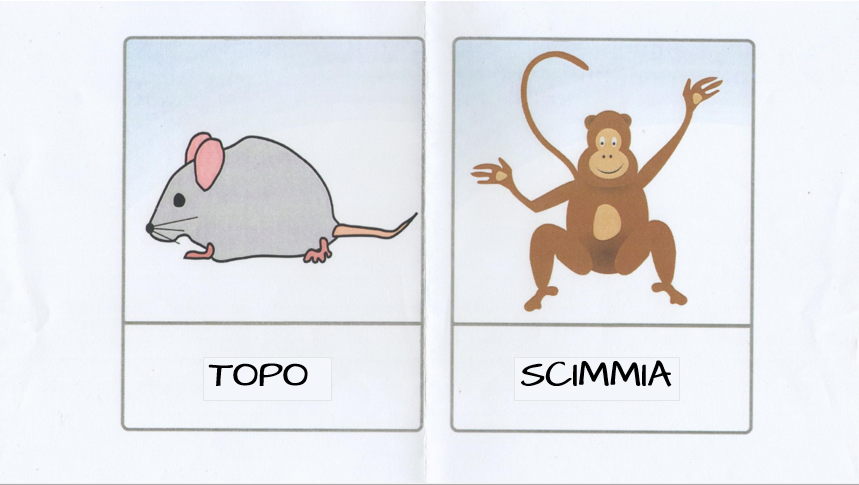scimmia: (457, 43, 748, 416)
topo: (124, 60, 419, 408)
